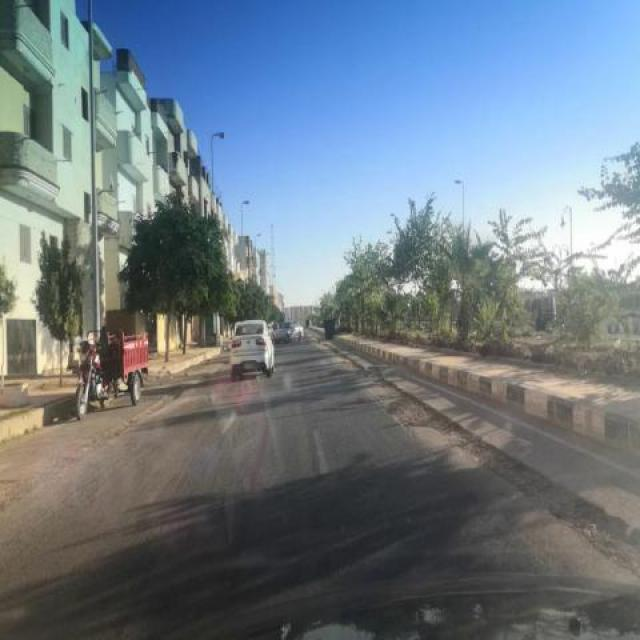Pothole: (340, 361, 640, 572)
